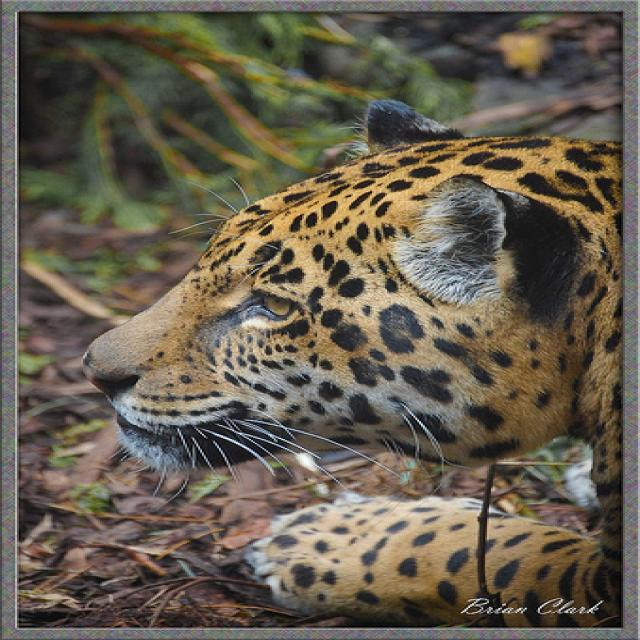Leopard: (70, 92, 617, 624)
